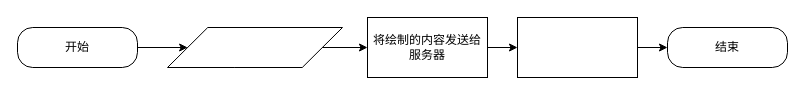
Image size: 805x95. Some labels were removed from this diagram. The shapes that lost their labels are listed below. From the top down, each one's centre as x and y in pixels, then its label:
pixel 254 47: 主持人绘制的内容 或展示的文件
pixel 577 47: 服务器将内容发送给其他用户
